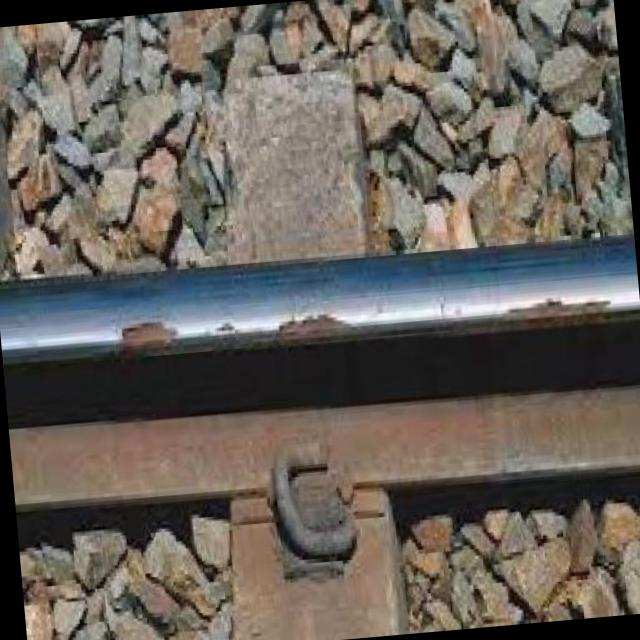defective: (56, 211, 640, 543)
